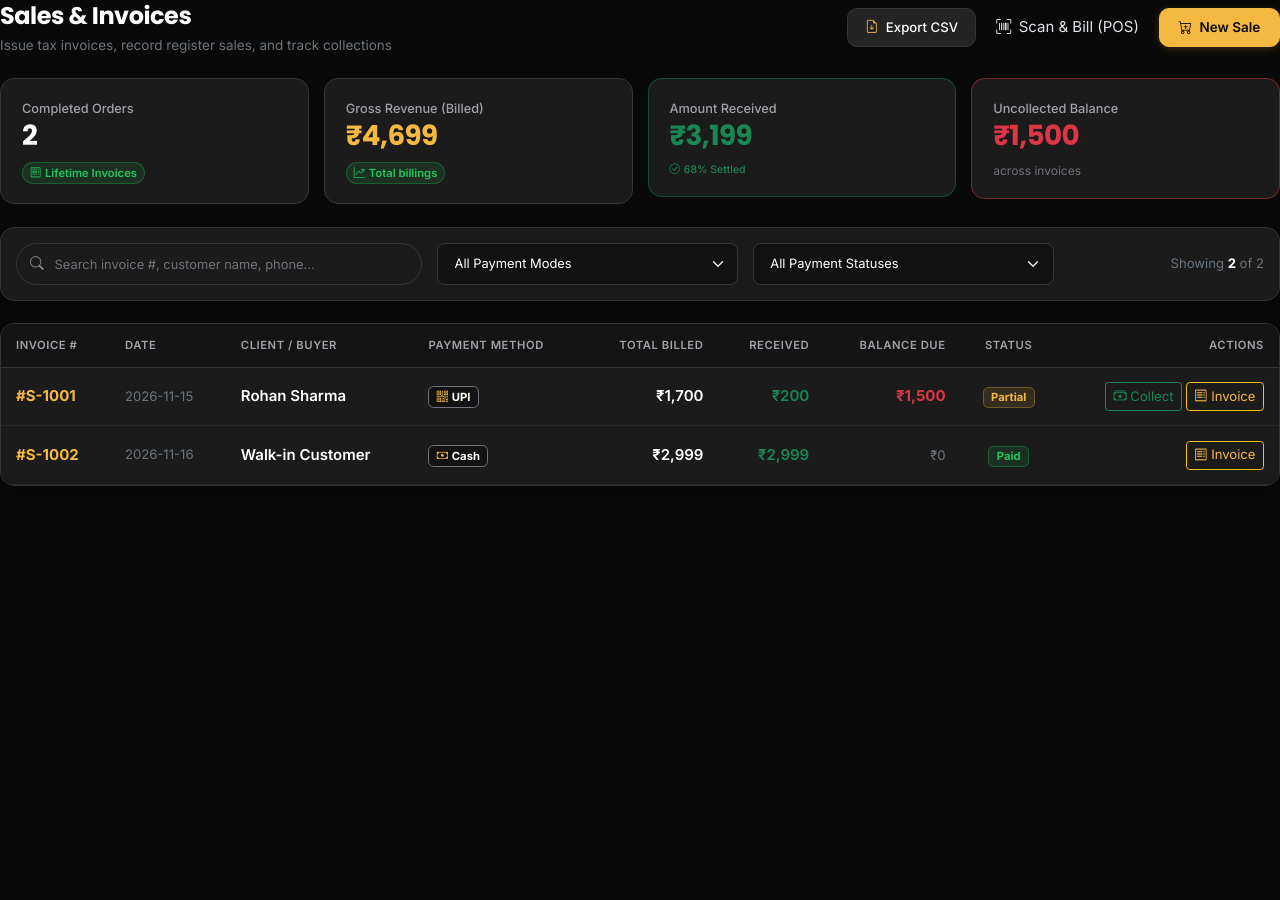
Test: Integration — Sales & POS Invoicing Workflow › opens New Sale POS Modal when clicking button
Step 1. Click the button "New Sale" → x=1219, y=28, box 1159,8 -> 1279,47
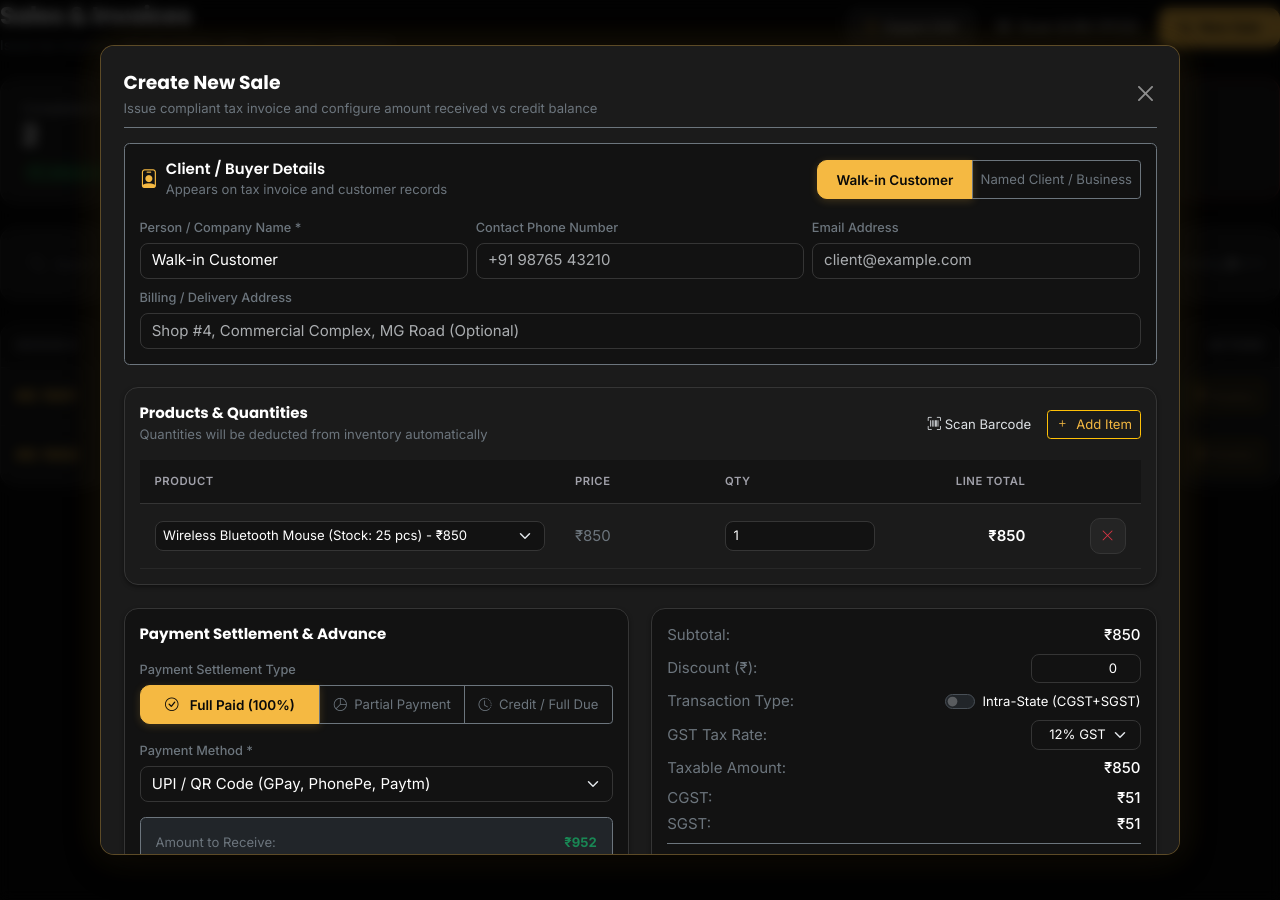
Now the heading "Create New Sale" is shown, box 124,68 -> 280,96
